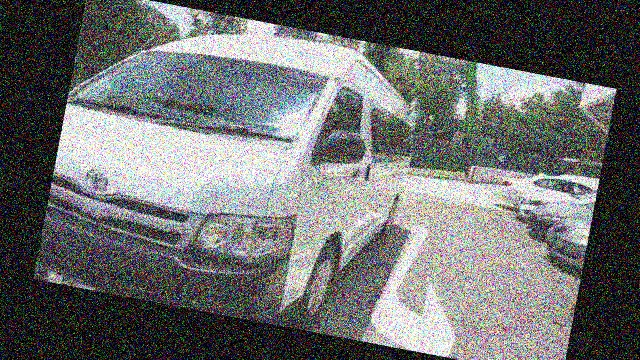van: (36, 0, 431, 338)
